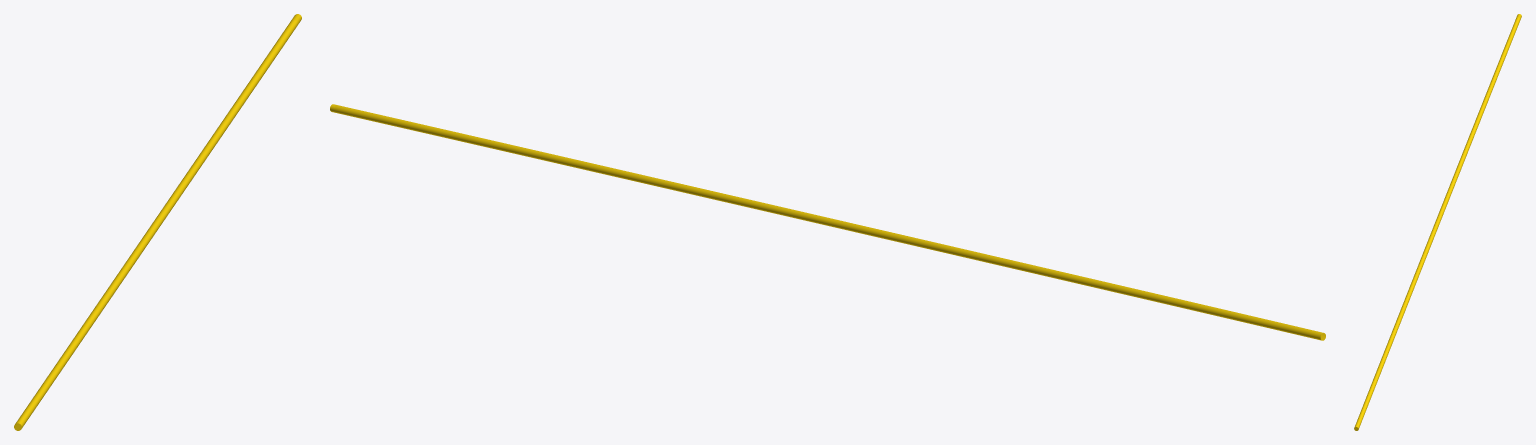
The model's file is Event_420107950_track_21.fbx.
3 renders of one model, left to right at view 1: azimuth 90°, elevation 25°; view 2: azimuth 150°, elevation 25°; view 3: azimuth 270°, elevation 25°, orthographic. The views are drawn at different scales.
Visible parts, largest first — view 1: Model; view 2: Model; view 3: Model.
Boxes of the visible parts, bbox=[...] form: Model: bbox=[14, 14, 301, 430]; Model: bbox=[330, 104, 1325, 340]; Model: bbox=[1354, 14, 1521, 430].
Size of the model in its own units: 6.52 by 0.8534 by 1.42.
